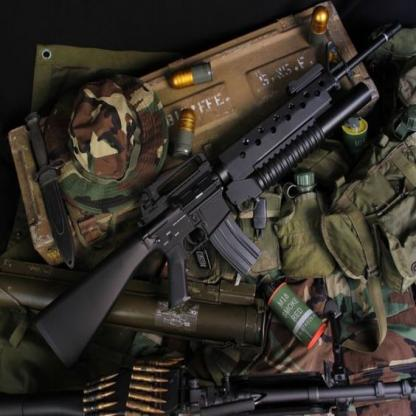Grenade: (264, 276, 326, 350), (341, 114, 372, 164)
Gun: (29, 16, 405, 370), (0, 256, 269, 353), (0, 355, 416, 416)
Knife: (22, 108, 78, 270)
